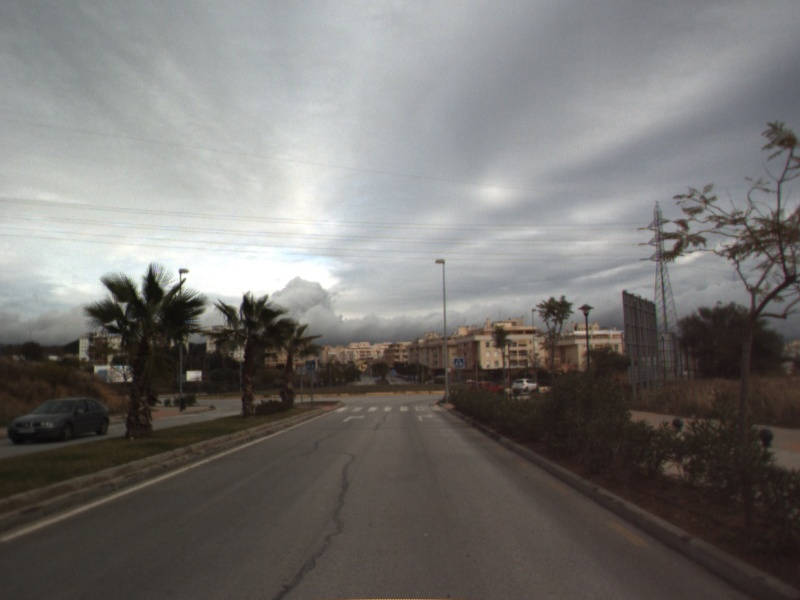RIGHT: (340, 413, 368, 424), (415, 412, 437, 423)
